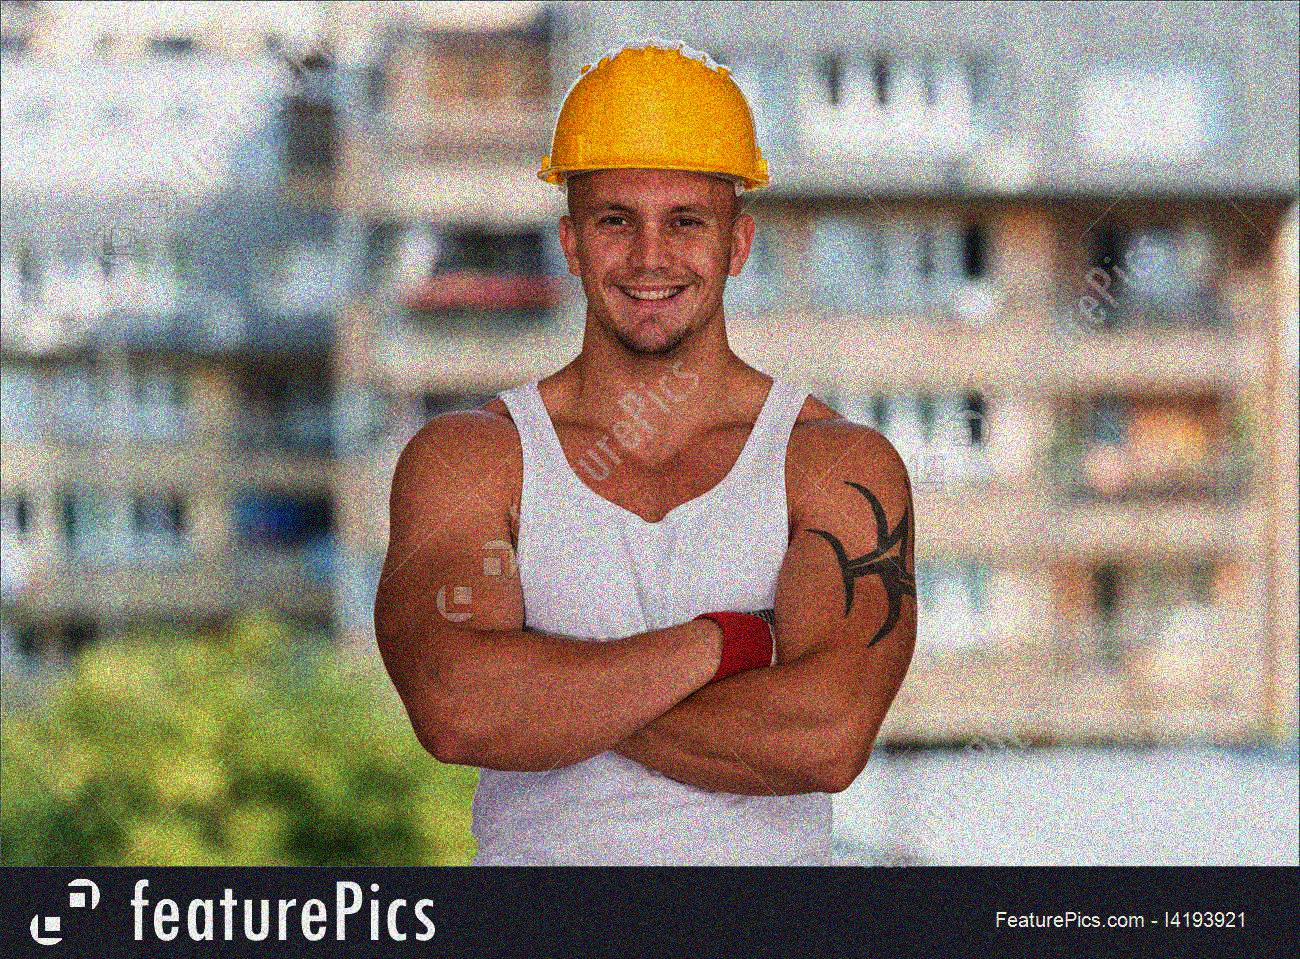helmet: (531, 41, 771, 350)
